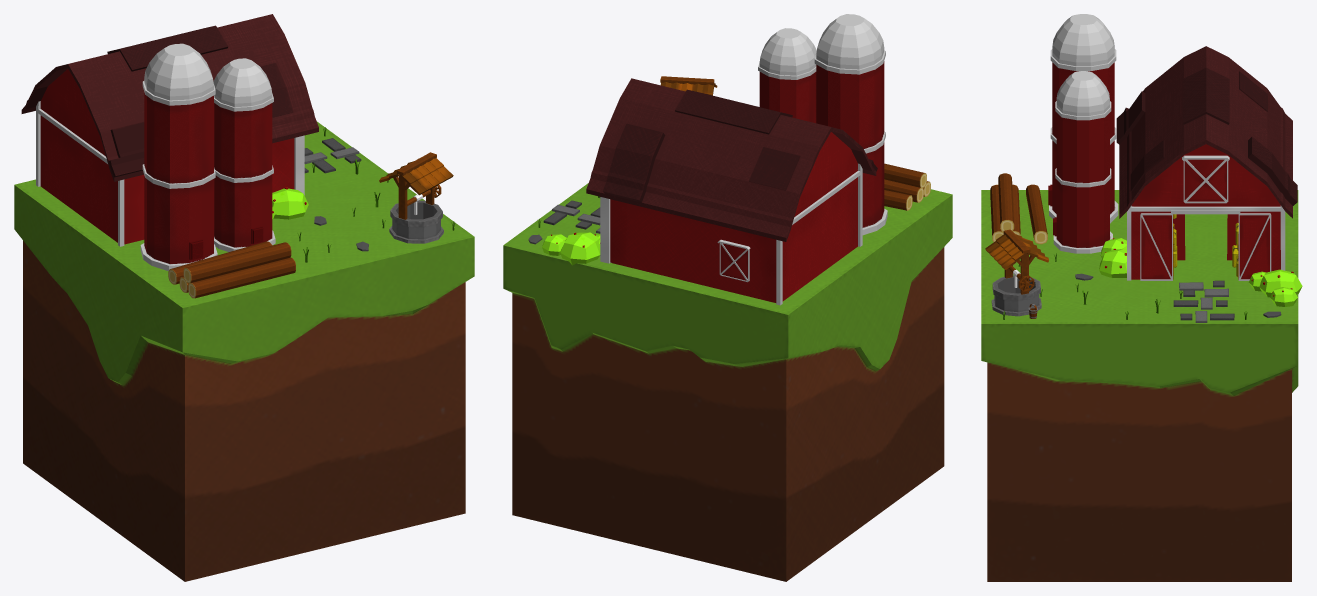
File: Concepts_9.fbx
3 renders of one model, left to right at view 1: azimuth 30°, elevation 25°; view 2: azimuth 150°, elevation 25°; view 3: azimuth 270°, elevation 25°, orthographic. The views are drawn at different scales.
Parts seen in each view (by area): view 1: Cube.107, Cube.116, Cube.113, Cube.112, Cube.108, Cube.110, Cube.115, Cube.109, Cube.111; view 2: Cube.107, Cube.116, Cube.113, Cube.112, Cube.114, Cube.110, Cube.109, Cube.108; view 3: Cube.107, Cube.116, Cube.112, Cube.113, Cube.108, Cube.110, Cube.109, Cube.114, Cube.115, Cube.111, Cube.026.
Part boxes in pixels (left/top/right/bottom): Cube.107: left=14, top=121, right=474, bottom=581; Cube.116: left=21, top=14, right=318, bottom=246; Cube.113: left=140, top=43, right=217, bottom=270; Cube.112: left=213, top=58, right=275, bottom=251; Cube.108: left=379, top=152, right=453, bottom=243; Cube.110: left=179, top=242, right=295, bottom=298; Cube.115: left=272, top=187, right=308, bottom=219; Cube.109: left=304, top=138, right=361, bottom=173; Cube.111: left=168, top=241, right=272, bottom=284; Cube.107: left=503, top=183, right=952, bottom=581; Cube.116: left=586, top=78, right=877, bottom=305; Cube.113: left=814, top=14, right=887, bottom=235; Cube.112: left=758, top=28, right=816, bottom=123; Cube.114: left=542, top=232, right=600, bottom=265; Cube.110: left=884, top=163, right=930, bottom=202; Cube.109: left=543, top=200, right=600, bottom=233; Cube.108: left=660, top=76, right=717, bottom=95; Cube.107: left=981, top=190, right=1298, bottom=581; Cube.116: left=1116, top=46, right=1297, bottom=280; Cube.112: left=1053, top=71, right=1112, bottom=253; Cube.113: left=1048, top=14, right=1118, bottom=223; Cube.108: left=985, top=229, right=1048, bottom=316; Cube.110: left=990, top=173, right=1020, bottom=242; Cube.109: left=1173, top=280, right=1234, bottom=322; Cube.114: left=1248, top=269, right=1302, bottom=306; Cube.115: left=1099, top=238, right=1126, bottom=277; Cube.111: left=1026, top=184, right=1047, bottom=244; Cube.026: left=1002, top=253, right=1281, bottom=319.
Bounding box in the file's own units: 301 × 477 × 305.
